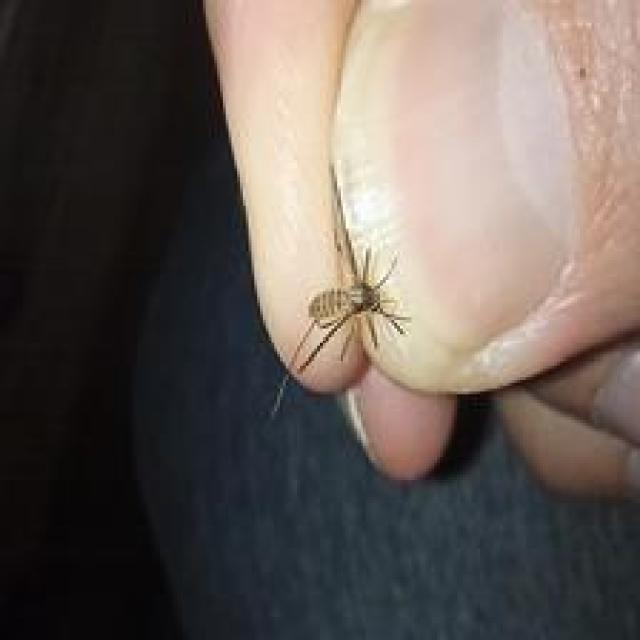Culex: (266, 230, 411, 419)
